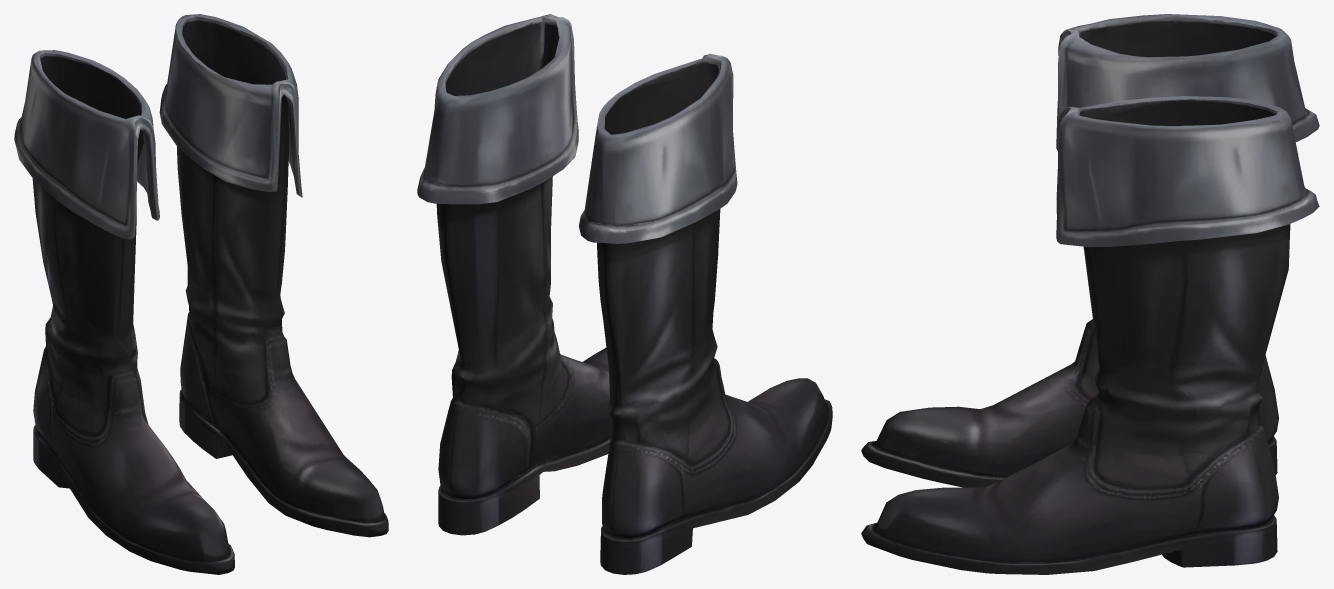
Rendered from mage_f_boots.glb.
The picture shows the model from 3 angles, left to right: view 1: azimuth 30°, elevation 25°; view 2: azimuth 150°, elevation 25°; view 3: azimuth 270°, elevation 25°; orthographic projection. The views are drawn at different scales.
Parts seen in each view (by area): view 1: world; view 2: world; view 3: world.
Part boxes in pixels (x1,y1,x2,y2): world: [14, 14, 388, 574]; world: [417, 14, 832, 574]; world: [861, 14, 1319, 574].
Bounding box in the file's own units: 0.3075 × 0.5006 × 0.47.
1 material, 1 textured.
